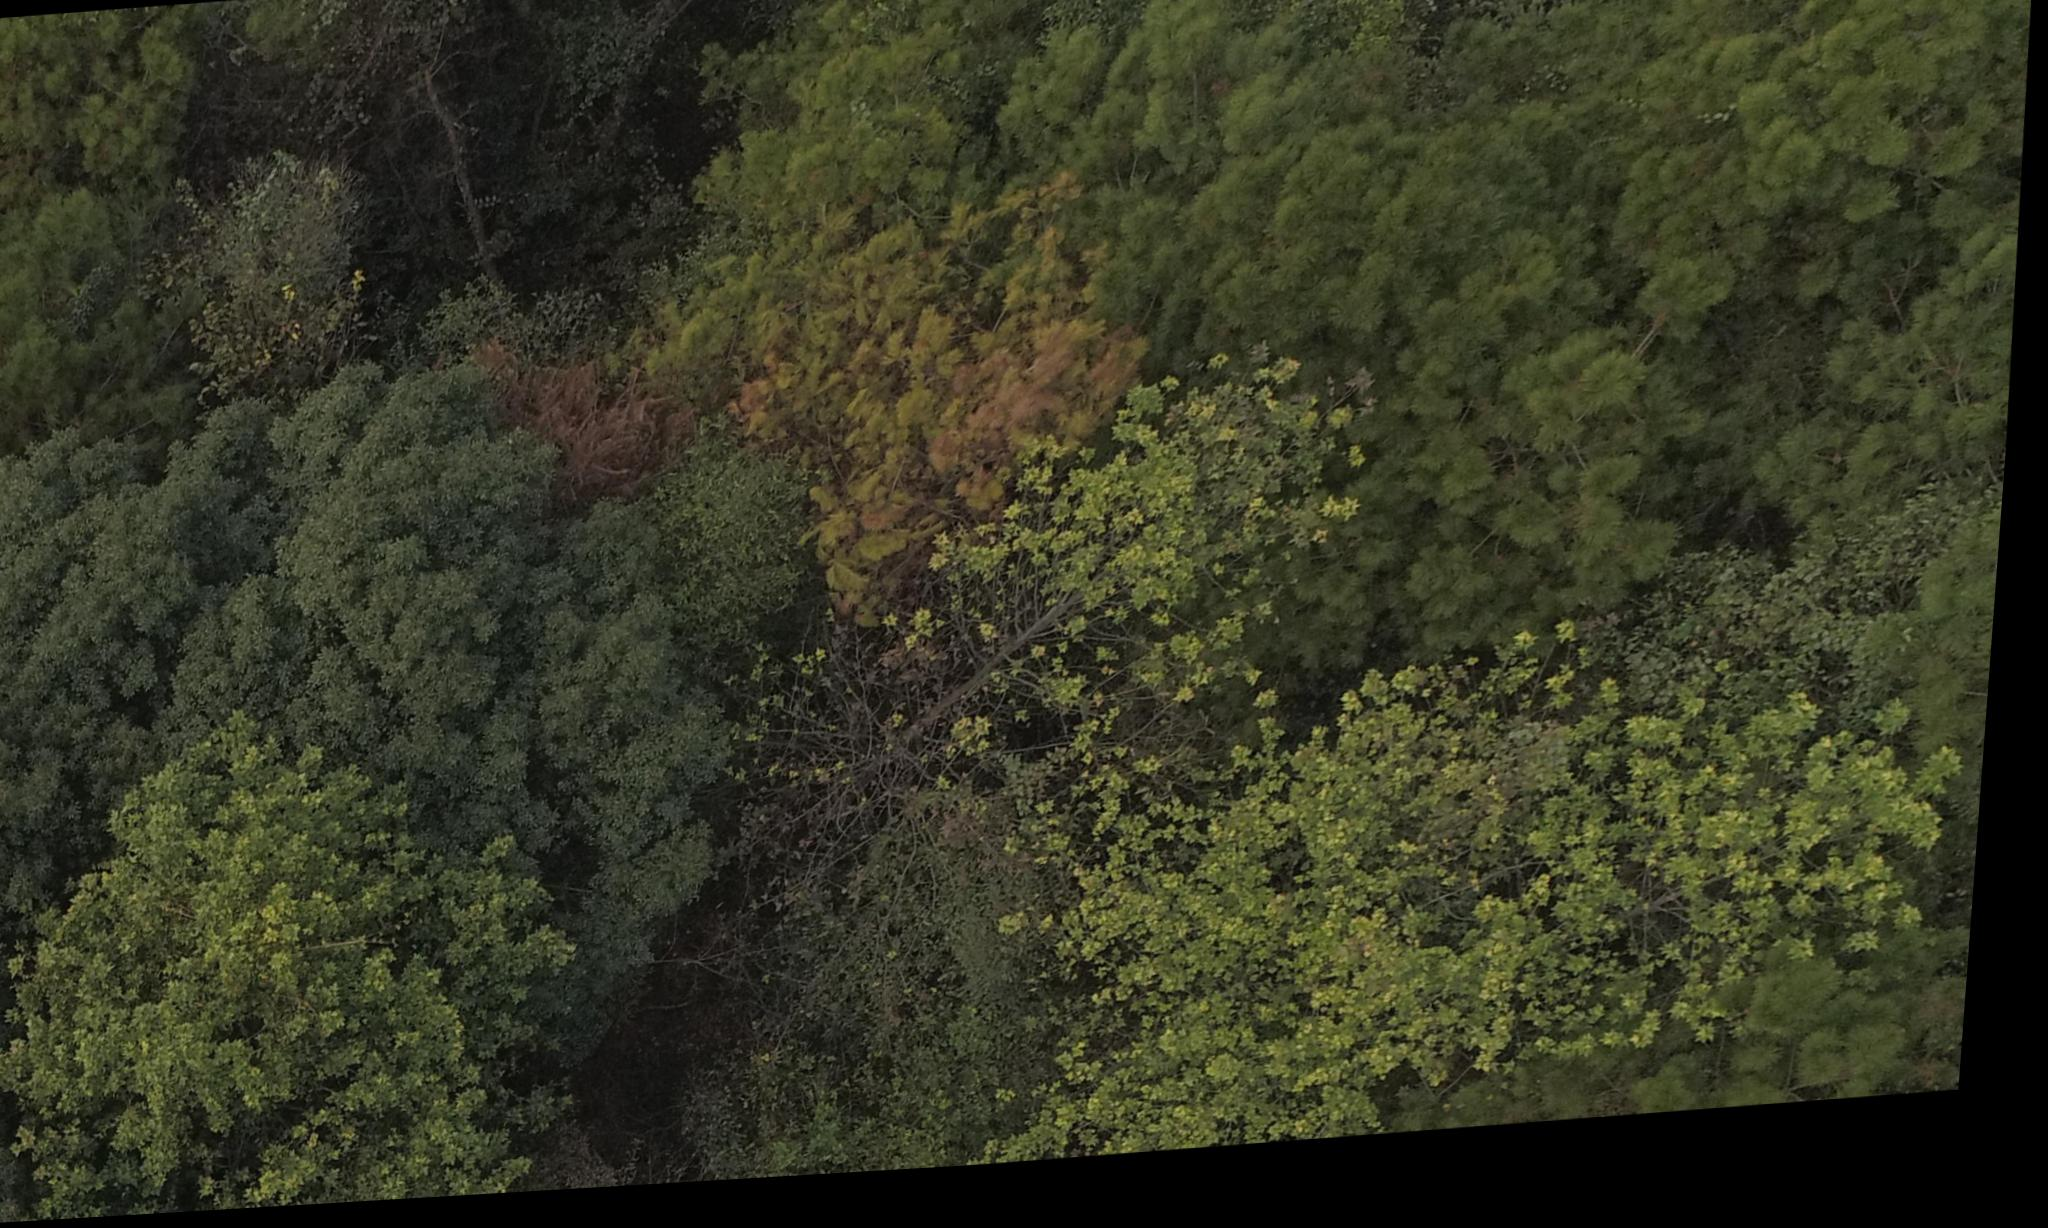heavy: (479, 326, 702, 519)
light: (735, 203, 1155, 621)
